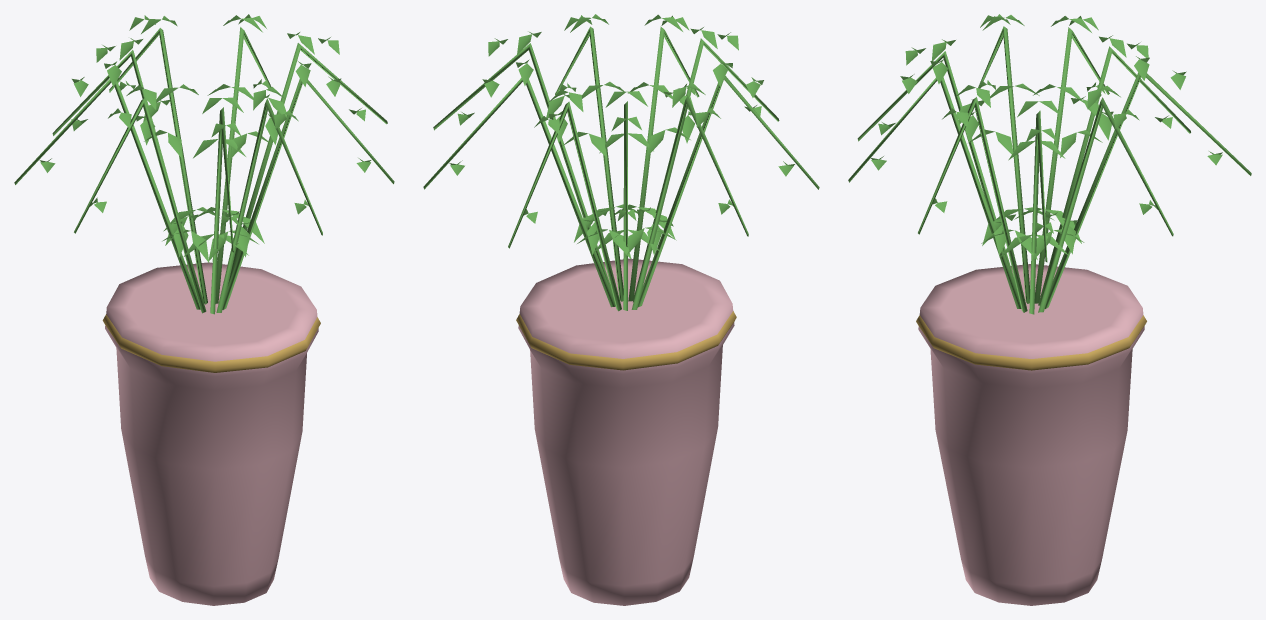
File: fern_pot.glb
The picture shows the model from 3 angles, left to right: view 1: azimuth 30°, elevation 25°; view 2: azimuth 150°, elevation 25°; view 3: azimuth 270°, elevation 25°; orthographic projection.
Parts seen in each view (by area): view 1: fern_pot; view 2: fern_pot; view 3: fern_pot.
Part boxes in pixels (x1=…): fern_pot: x1=14, y1=14, x2=394, y2=605; fern_pot: x1=423, y1=14, x2=819, y2=605; fern_pot: x1=848, y1=14, x2=1251, y2=605.
Size of what is drawn, in the model's own units: 0.7 by 1 by 0.7.
